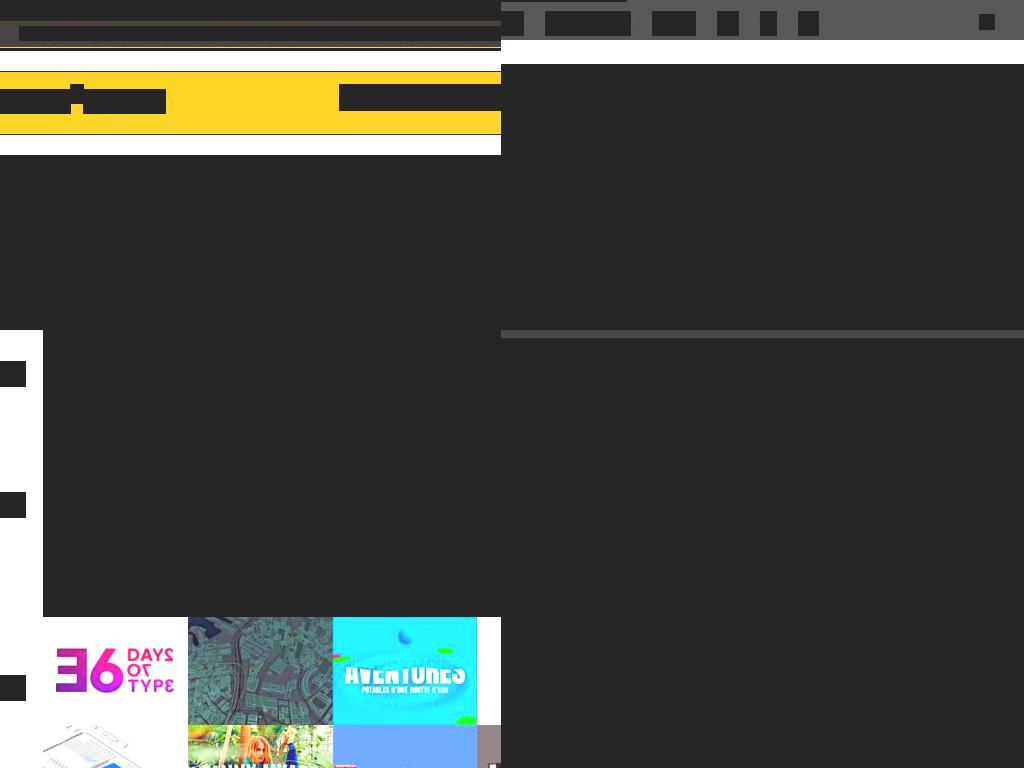button: (501, 438, 1024, 768), (187, 399, 333, 509), (332, 399, 478, 509), (187, 616, 333, 726), (332, 616, 478, 726), (43, 399, 188, 509), (43, 616, 188, 726), (187, 508, 333, 617), (332, 508, 478, 617), (43, 508, 188, 617), (187, 330, 333, 400), (332, 330, 478, 400), (43, 330, 188, 400), (782, 388, 956, 438), (647, 388, 782, 438), (187, 725, 333, 768), (332, 725, 478, 768), (43, 725, 188, 768), (529, 388, 647, 438), (545, 11, 631, 36), (190, 26, 291, 41), (370, 26, 468, 41), (501, 388, 529, 438), (87, 26, 178, 41), (652, 11, 696, 36), (305, 26, 354, 41), (501, 11, 524, 36), (717, 11, 739, 36), (798, 11, 819, 36), (760, 11, 777, 36)
heading: (501, 64, 1024, 330)
image: (501, 438, 1024, 768), (0, 155, 501, 330), (501, 388, 1024, 438), (501, 191, 675, 330), (187, 399, 333, 509), (332, 399, 478, 509), (187, 616, 333, 726), (332, 616, 478, 726), (43, 399, 188, 509), (43, 616, 188, 726), (187, 508, 333, 617), (332, 508, 478, 617), (43, 508, 188, 617), (187, 330, 333, 400), (332, 330, 478, 400), (43, 330, 188, 400), (187, 725, 333, 768), (332, 725, 478, 768), (43, 725, 188, 768), (0, 48, 501, 51), (979, 14, 995, 30), (798, 16, 819, 28), (760, 16, 777, 28)
link: (800, 133, 868, 151), (562, 133, 621, 151)
text: (501, 643, 1024, 694), (501, 338, 1024, 388), (501, 707, 1024, 744), (695, 191, 995, 222), (339, 84, 501, 111), (83, 89, 166, 114), (0, 89, 71, 114), (879, 133, 938, 151), (632, 133, 684, 151), (19, 26, 73, 41), (695, 133, 740, 151), (949, 133, 990, 151), (352, 26, 371, 41), (70, 84, 84, 104), (176, 26, 191, 41), (291, 26, 306, 41), (468, 26, 483, 41), (73, 26, 87, 41)
